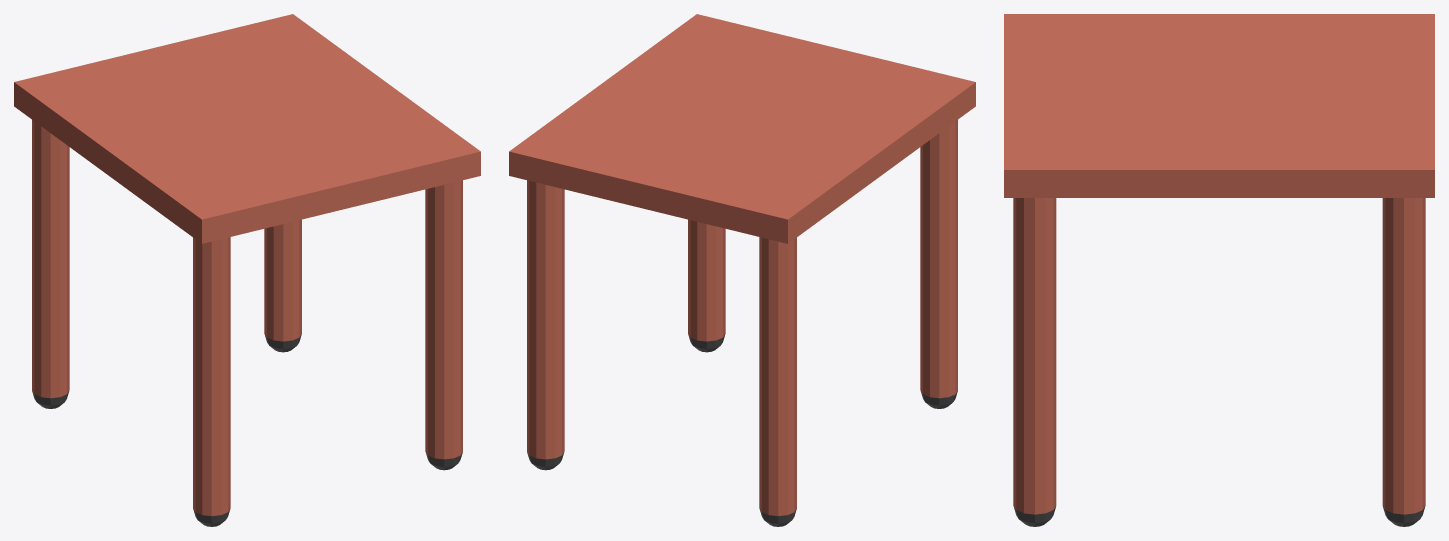
The model's file is Stool.fbx.
3 views of the same model, side by side, from view 1: azimuth 30°, elevation 25°; view 2: azimuth 150°, elevation 25°; view 3: azimuth 270°, elevation 25° (orthographic). The views are drawn at different scales.
Visible parts, largest first — view 1: Cube; view 2: Cube; view 3: Cube.
Part boxes in pixels (x1=…): Cube: x1=14, y1=14, x2=480, y2=526; Cube: x1=509, y1=14, x2=975, y2=526; Cube: x1=1004, y1=14, x2=1434, y2=526.
Bounding box in the file's own units: 120 × 132 × 140.
